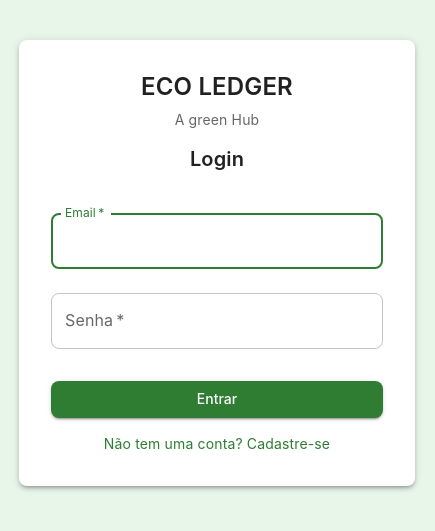
LoginPage › should show error for invalid email
Step 1. Type "invalid-email" into the field labelled "Email *" → (217, 241), box [51,213,383,269]
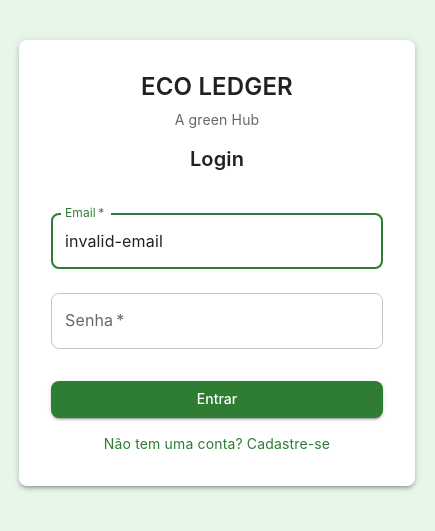
Step 2. Click the button "Entrar" → (217, 399), box [51,381,383,418]
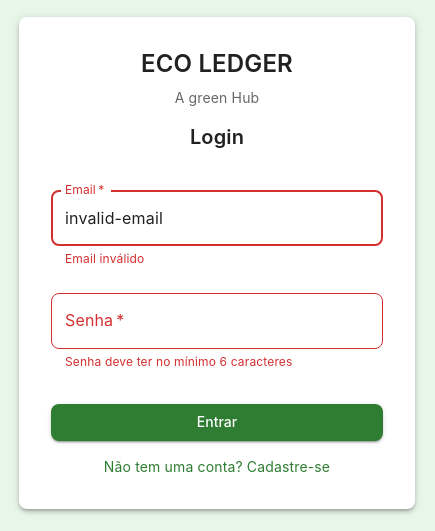
Now the text "Email inválido" is shown, box [65,251,144,266]
